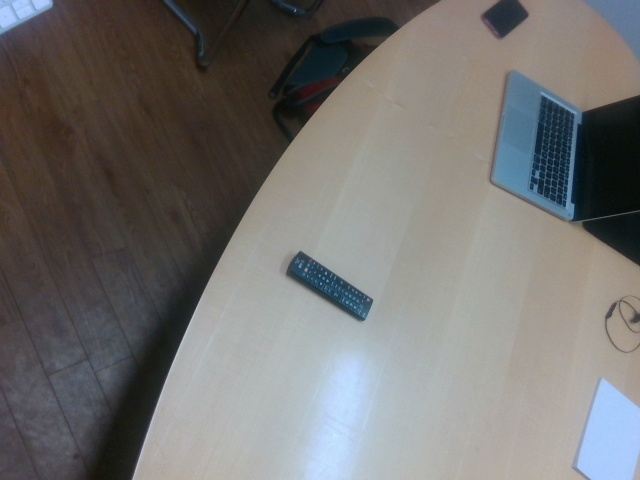remote: (284, 250, 375, 322)
